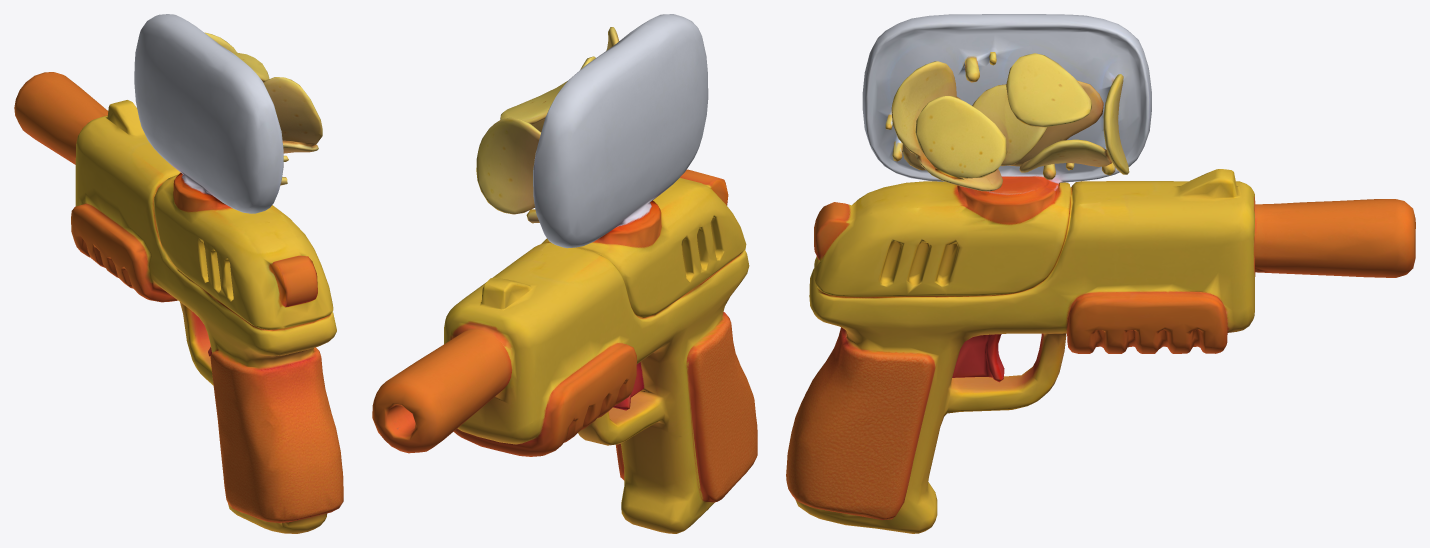
Rendered from 713bd562-9a9d-4fbc-b8ae-7f94dd952ea6-pbr_model.glb.
3 views of the same model, side by side, from view 1: azimuth 30°, elevation 25°; view 2: azimuth 150°, elevation 25°; view 3: azimuth 270°, elevation 25° (orthographic). The views are drawn at different scales.
Parts seen in each view (by area): view 1: tripo_node_713bd562-9a9d-4fbc-b8ae-7f94dd952ea6; view 2: tripo_node_713bd562-9a9d-4fbc-b8ae-7f94dd952ea6; view 3: tripo_node_713bd562-9a9d-4fbc-b8ae-7f94dd952ea6.
Part boxes in pixels (box(x1,y1,x2,y2)): tripo_node_713bd562-9a9d-4fbc-b8ae-7f94dd952ea6: box(14, 14, 343, 533); tripo_node_713bd562-9a9d-4fbc-b8ae-7f94dd952ea6: box(372, 14, 757, 533); tripo_node_713bd562-9a9d-4fbc-b8ae-7f94dd952ea6: box(786, 14, 1415, 533).
Bounding box in the file's own units: 0.2678 × 0.88 × 1.
Materials: 1 (1 with a texture image).
